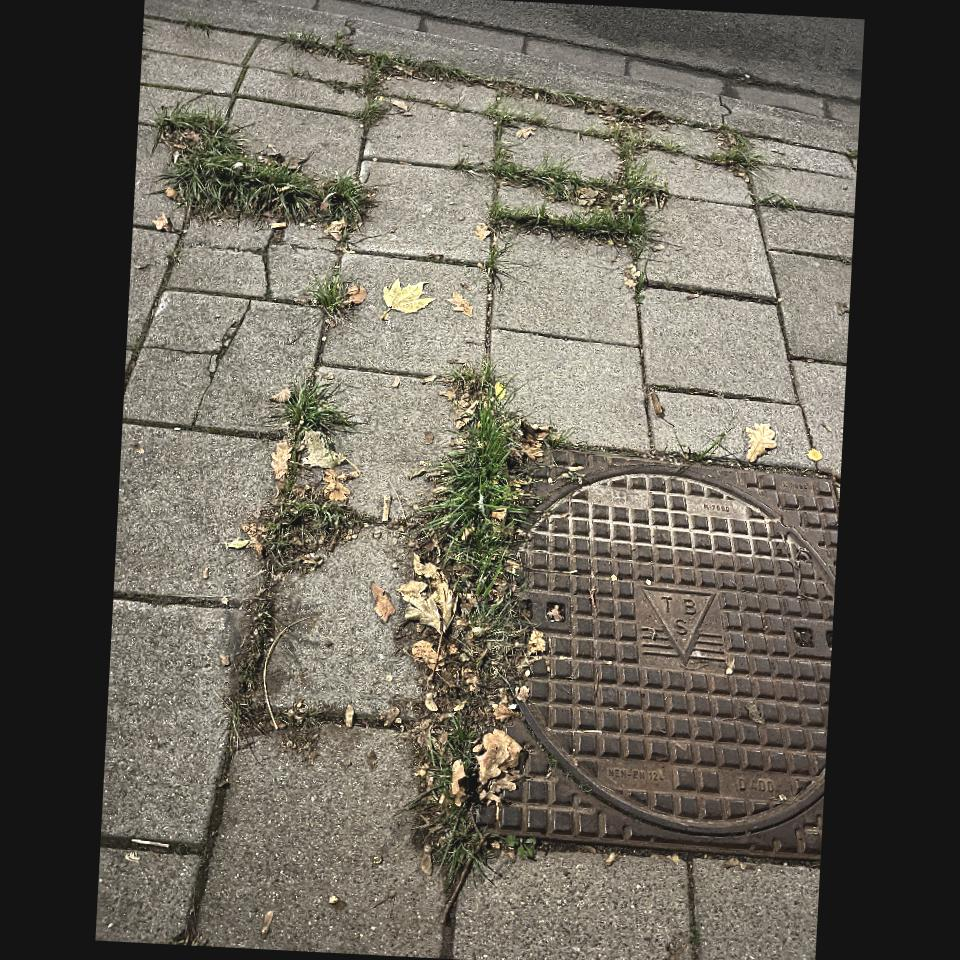weed: (291, 31, 704, 133), (483, 106, 764, 250), (420, 396, 533, 631), (161, 105, 370, 225), (254, 496, 371, 592), (279, 368, 344, 429), (310, 269, 350, 318)
